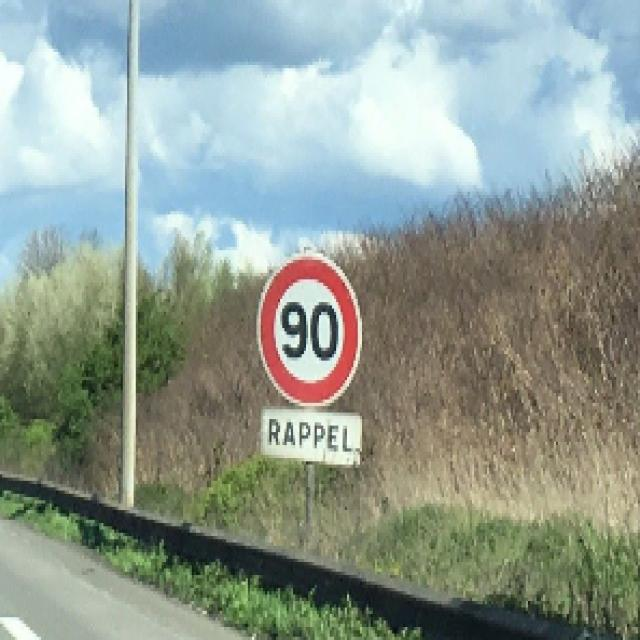speed_90: (254, 249, 365, 410)
